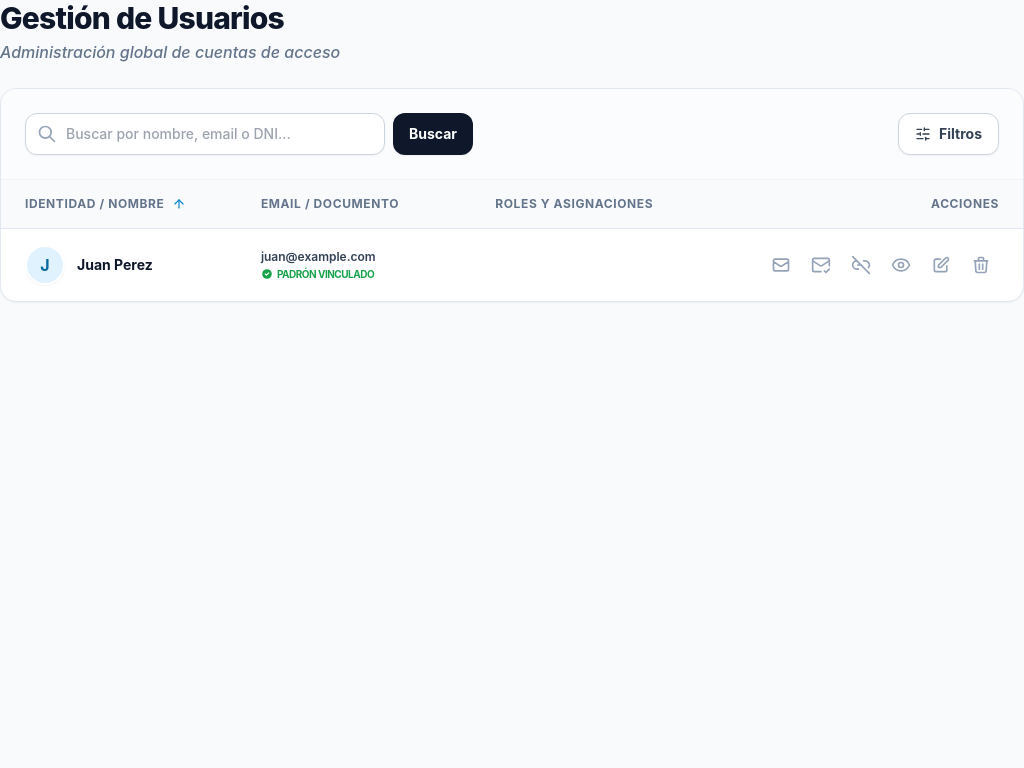
Test case: UserManagement › deshabilita los campos DNI y Email cuando el usuario tiene persona vinculada
The image size is (1024, 768).
expect the text "Juan Perez" is shown: met, box [77, 255, 153, 275]
Click the button titled "Editar Información".
click(941, 265)  # box [923, 247, 959, 283]
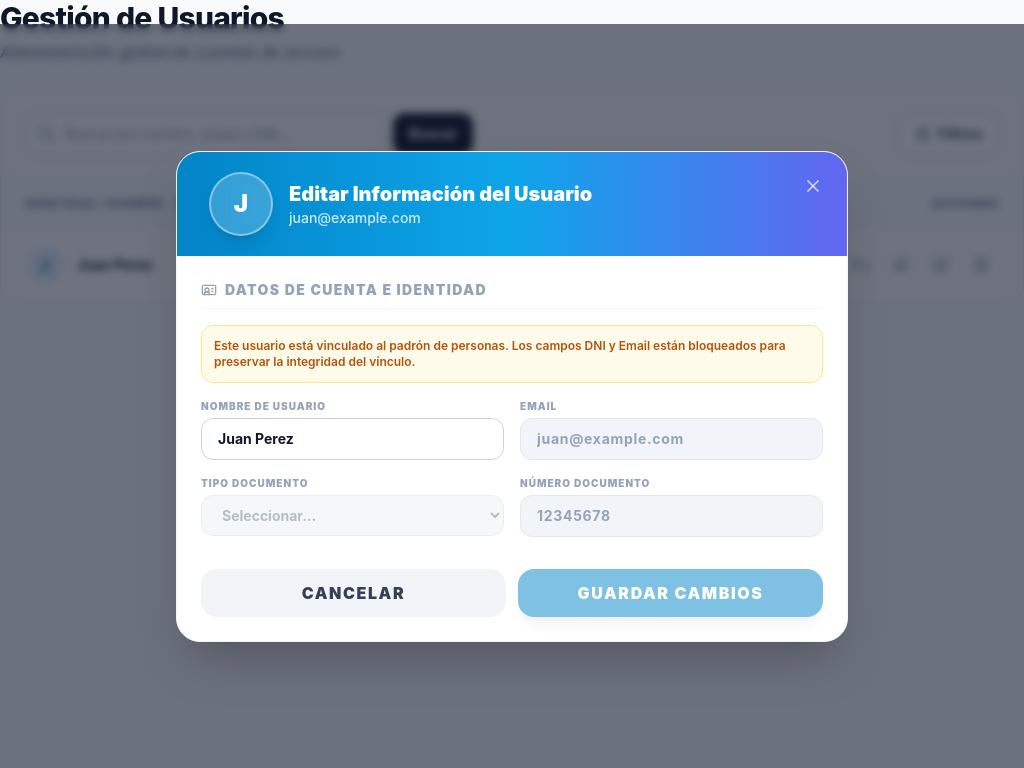
expect the text "campos DNI y Email están bloqueados" is shown: met, box [214, 338, 786, 368]
expect the 2nd field showing "juan@example.com" is disabled: met, box [520, 418, 823, 460]
expect the field showing "12345678" below "Número Documento" is disabled: met, box [520, 494, 823, 536]
